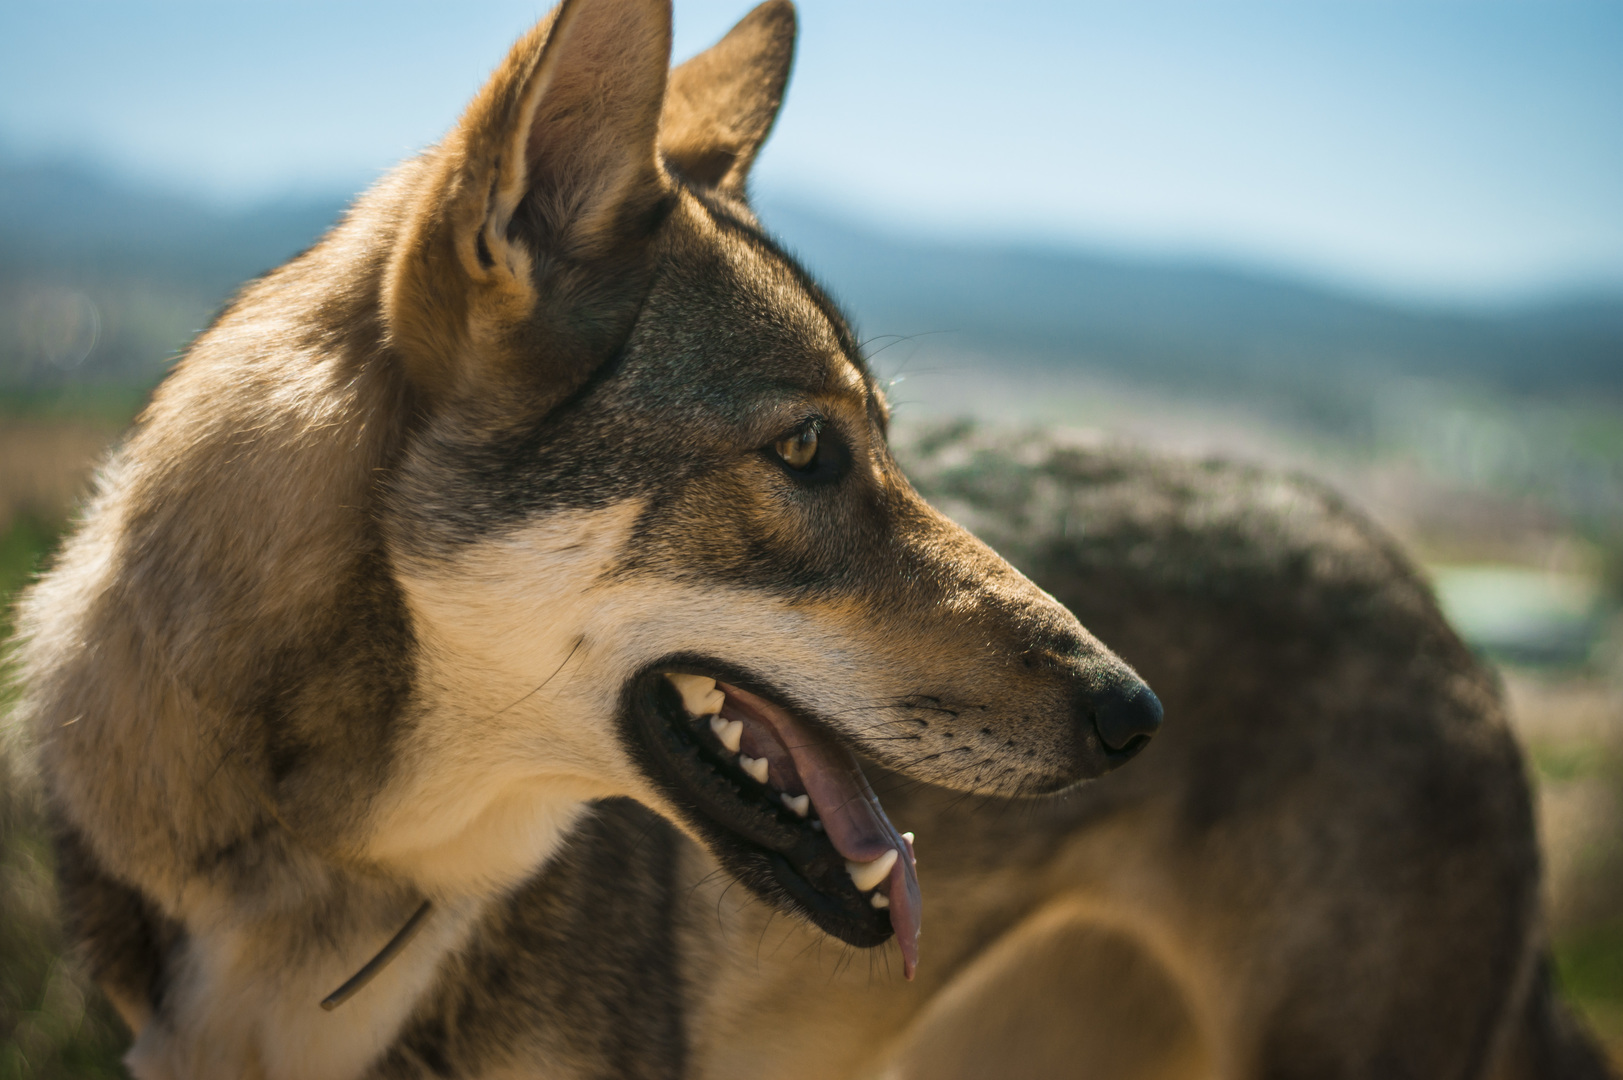Lobo: (127, 14, 1183, 1016)
